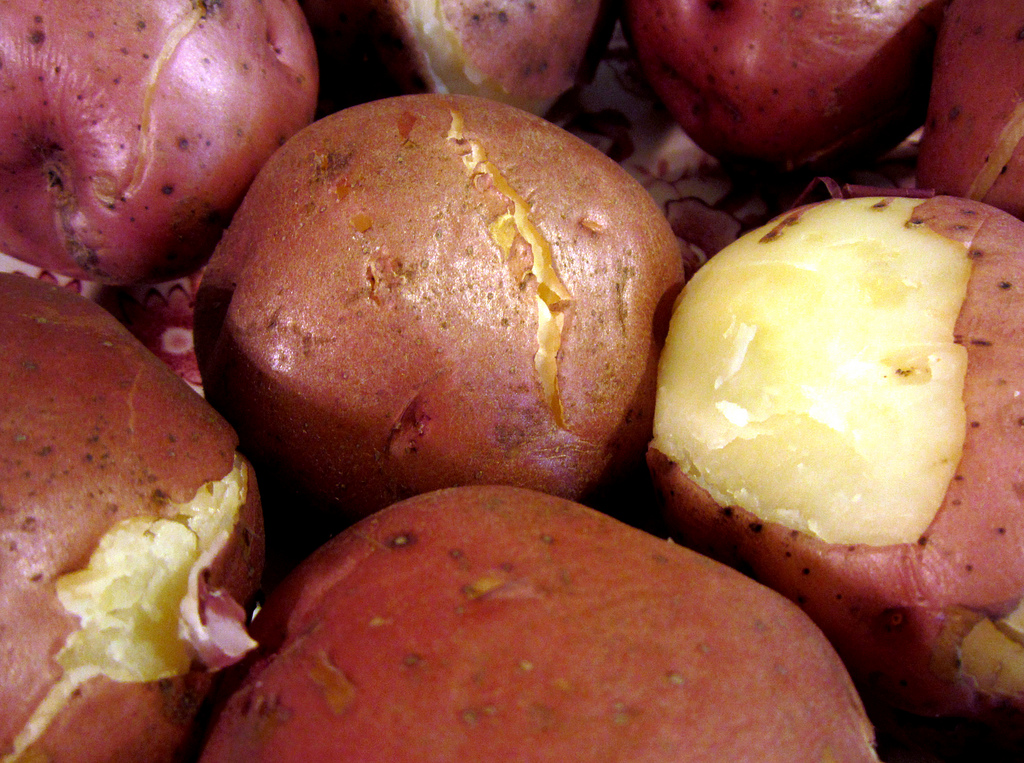boiled potatoes: (220, 105, 670, 509), (261, 504, 859, 763), (673, 184, 1024, 603), (2, 284, 231, 760), (6, 1, 285, 272), (626, 1, 886, 149), (411, 1, 586, 105)
